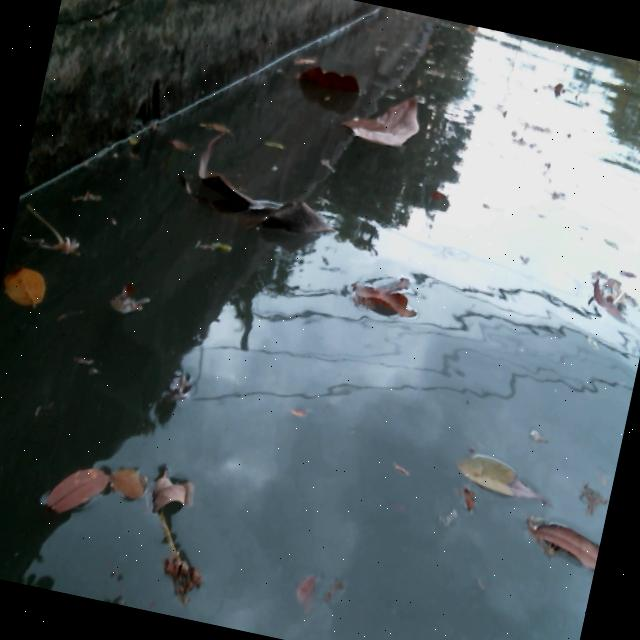Big-leaf: (175, 132, 335, 250), (338, 83, 450, 170), (332, 256, 431, 340), (296, 62, 369, 104)
Small-leaf: (443, 435, 550, 508), (33, 448, 110, 539), (518, 509, 604, 579), (0, 250, 54, 335), (93, 267, 157, 334), (134, 463, 198, 516), (576, 277, 637, 327), (96, 461, 141, 513), (196, 111, 235, 141), (264, 131, 299, 158), (162, 125, 189, 156), (289, 46, 317, 69)
